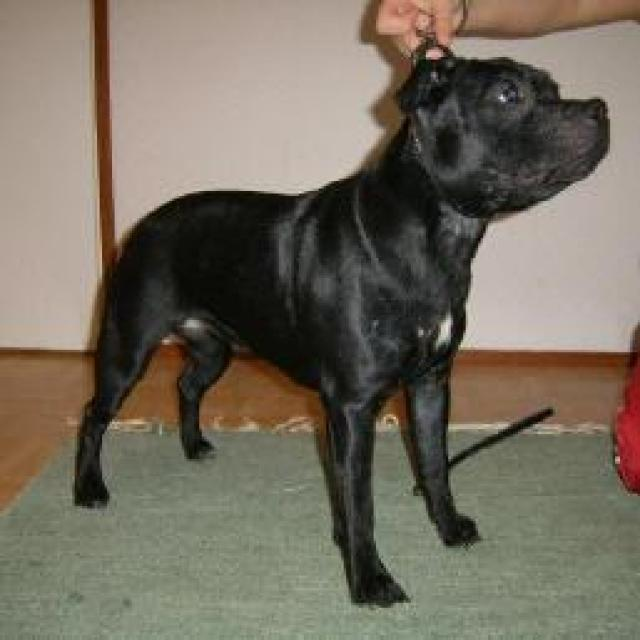staffordshire_bullterrier: (67, 25, 618, 610)
